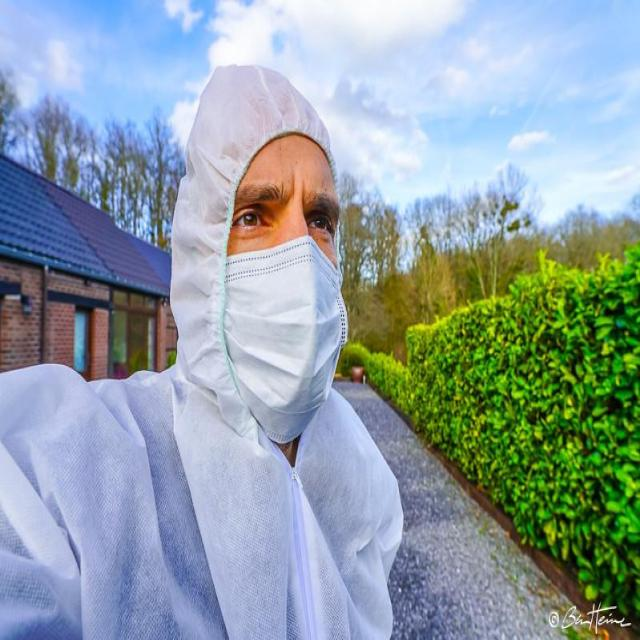Mask: (220, 236, 350, 451)
